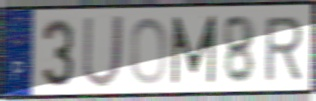3: (40, 17, 77, 90)
8: (221, 13, 257, 86)
M: (170, 13, 218, 87)
O: (129, 15, 169, 87)
R: (263, 14, 305, 83)
U: (80, 12, 127, 90)
